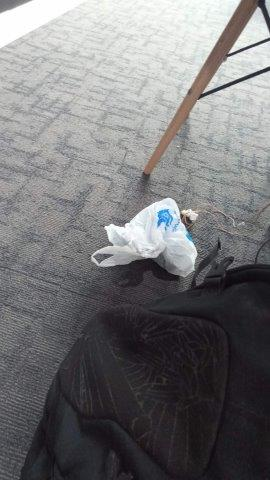plastik: (92, 199, 198, 276)
